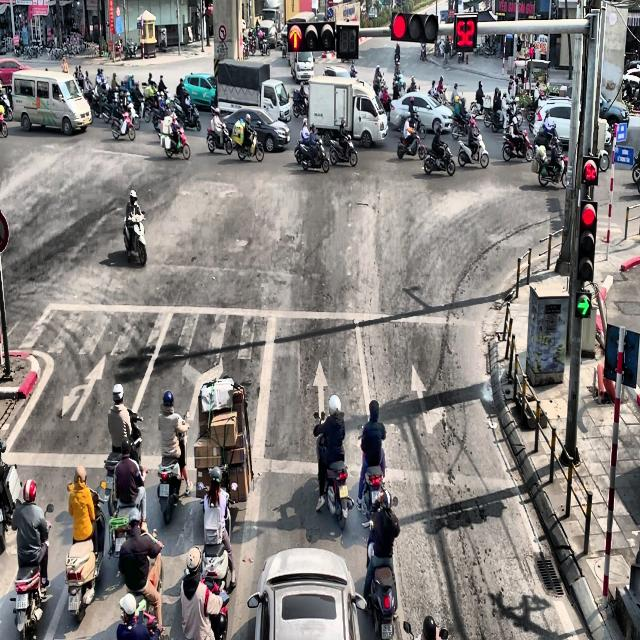CAR: (247, 546, 367, 640), (207, 108, 290, 154), (389, 92, 454, 134), (182, 72, 216, 111), (0, 57, 33, 88)
MOTORBIKE: (64, 486, 107, 622), (11, 504, 53, 639), (362, 519, 398, 639), (157, 411, 190, 525), (108, 465, 148, 557), (316, 436, 354, 530), (103, 410, 143, 496), (356, 424, 387, 518), (0, 437, 22, 552), (122, 212, 146, 266), (294, 136, 329, 173), (537, 147, 568, 188), (457, 130, 489, 168), (159, 123, 190, 160), (423, 141, 455, 176), (502, 128, 534, 162), (172, 97, 202, 131), (328, 132, 358, 166), (397, 126, 425, 160), (237, 128, 264, 162), (111, 104, 136, 140), (206, 122, 233, 154), (451, 112, 477, 140), (292, 90, 309, 117), (392, 75, 406, 98), (0, 104, 8, 138), (259, 36, 270, 56), (420, 42, 427, 61), (350, 61, 357, 78)
TRAFFIC_LIGHT: (576, 154, 598, 282), (286, 20, 336, 52), (389, 10, 438, 42), (453, 13, 478, 52)
TRUCK: (216, 58, 291, 123)
